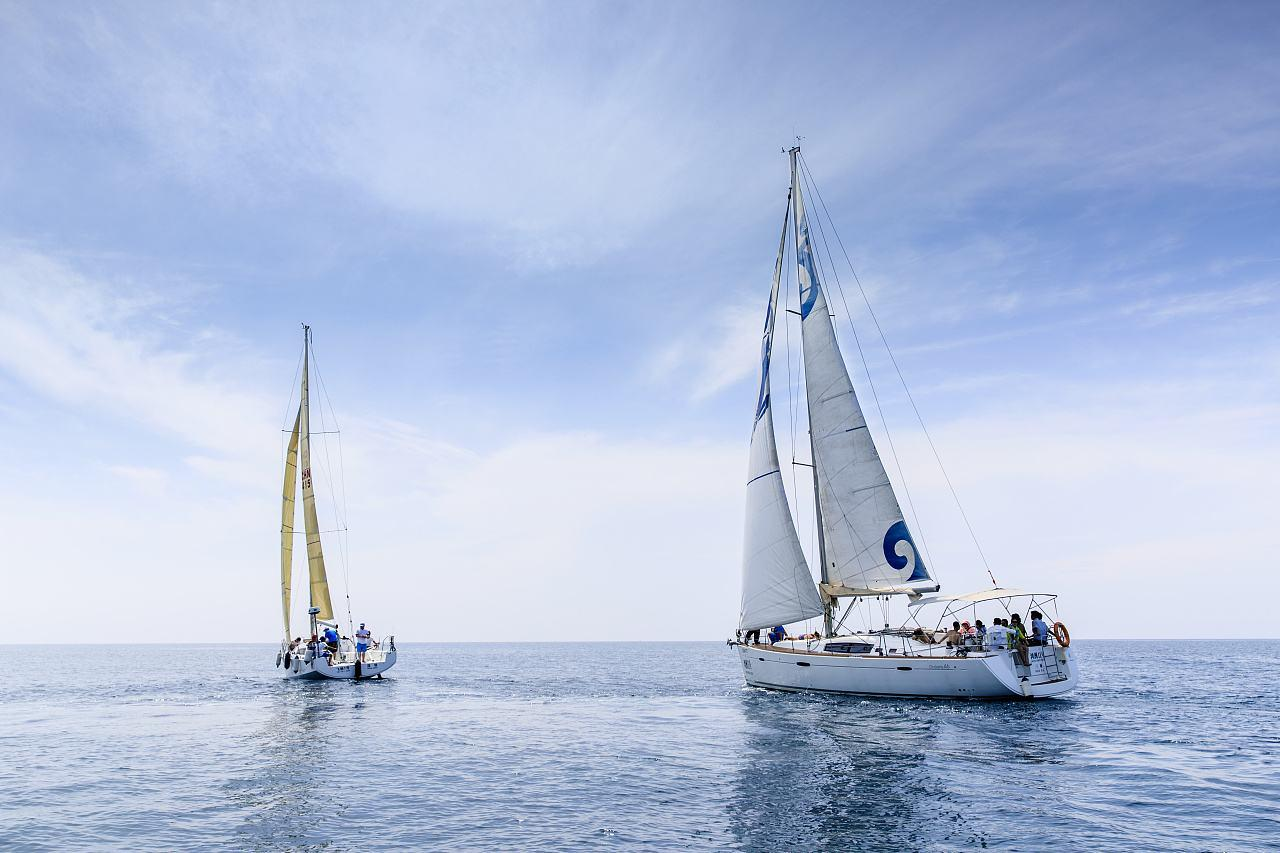fanchuan: (727, 127, 1072, 696), (261, 310, 419, 683)
